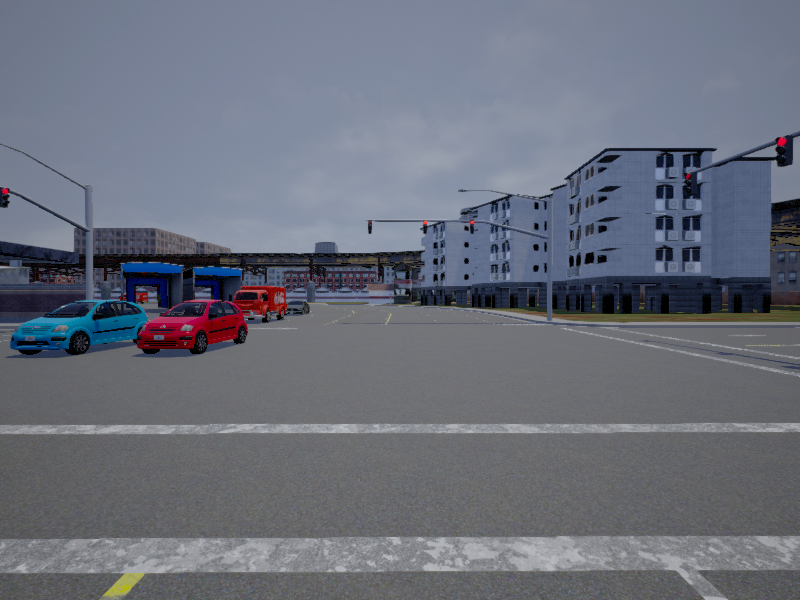Benign: (11, 299, 147, 354), (137, 301, 248, 352), (238, 291, 288, 322), (287, 301, 311, 316)
